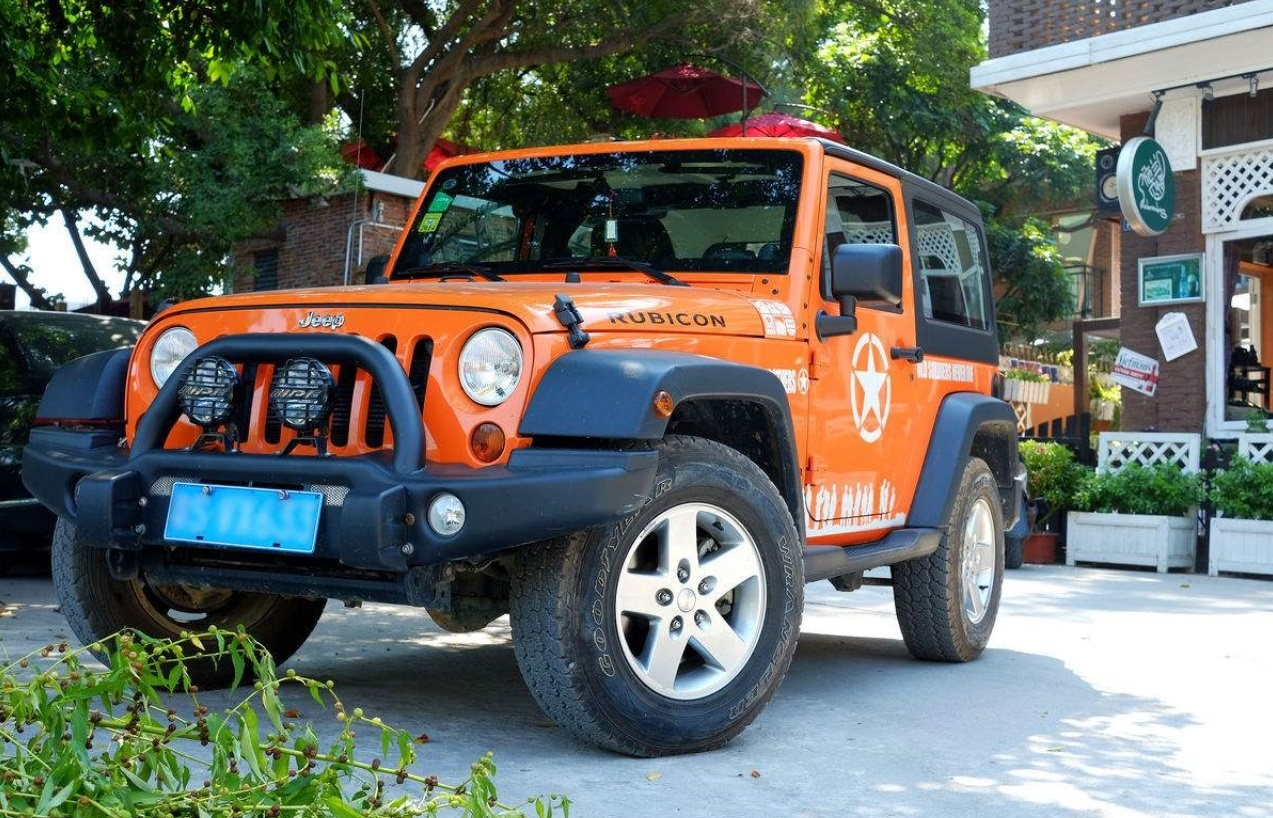jeep: (97, 77, 1021, 735)
